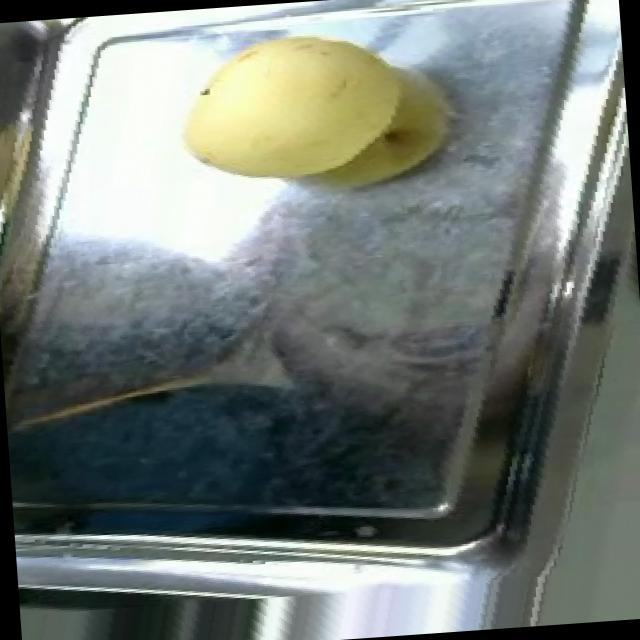Fruit: (152, 0, 474, 228)
